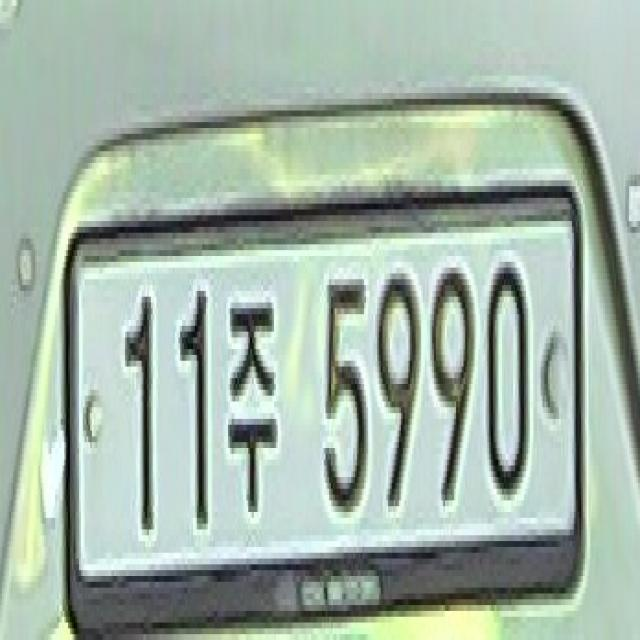0: (482, 244, 537, 512)
1: (173, 256, 221, 547), (121, 268, 168, 547)
5: (320, 256, 373, 529)
9: (425, 250, 480, 518), (373, 256, 427, 518)
ju: (226, 274, 283, 524)
license_plate: (64, 157, 587, 640)
